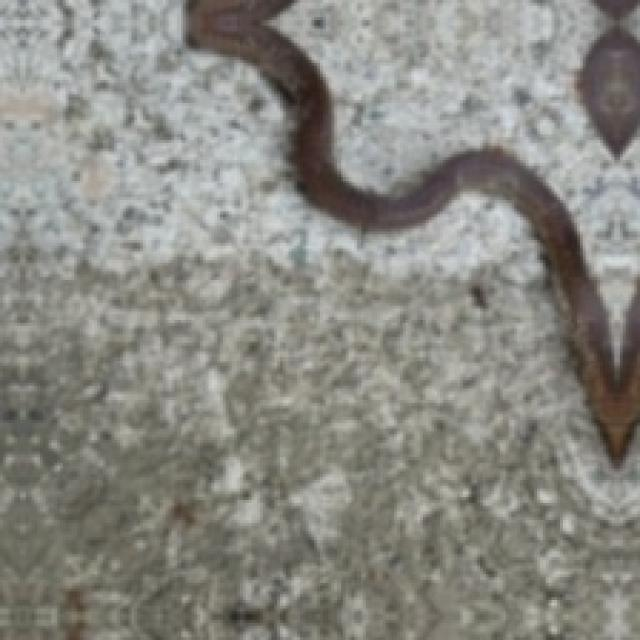gervais worm snake: (186, 0, 637, 460)
